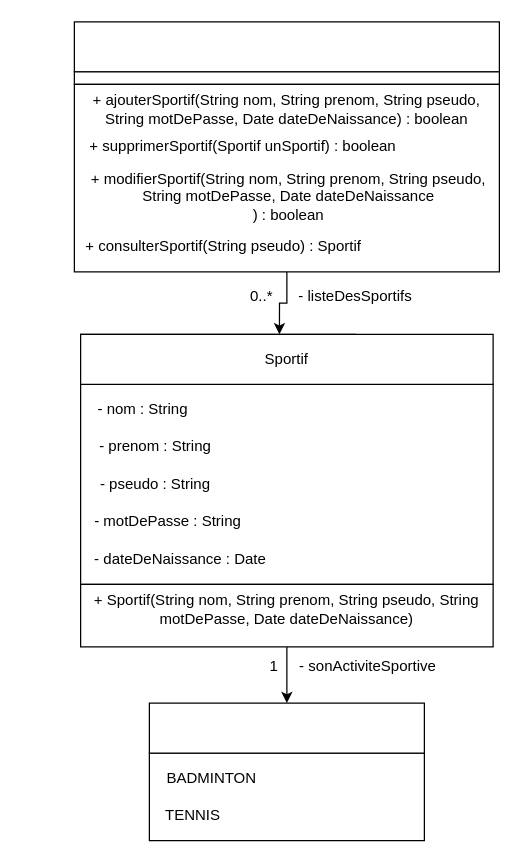
This 521x863 diagram has some shape labels left out. The centre of each missing label's shape, as x and y in pixels:
<<enumeration>> ActiviteSportive: [286,727]
GestionSportif: [286,46]
